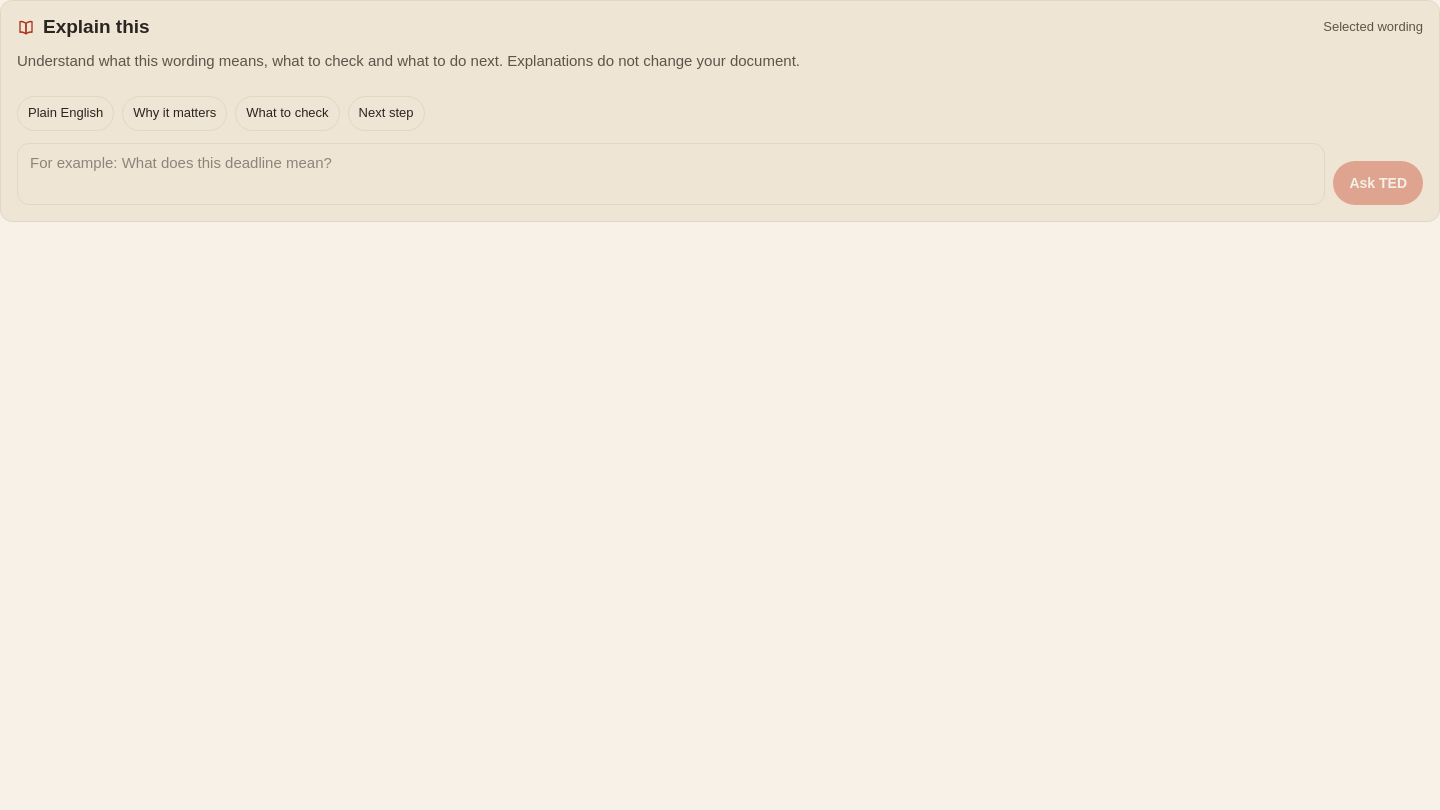
Scenario: Workspace assistance › renders an immediately returned explanation as labelled, accessible lists
Click the button "Plain English": (66, 114) [17,96,114,131]
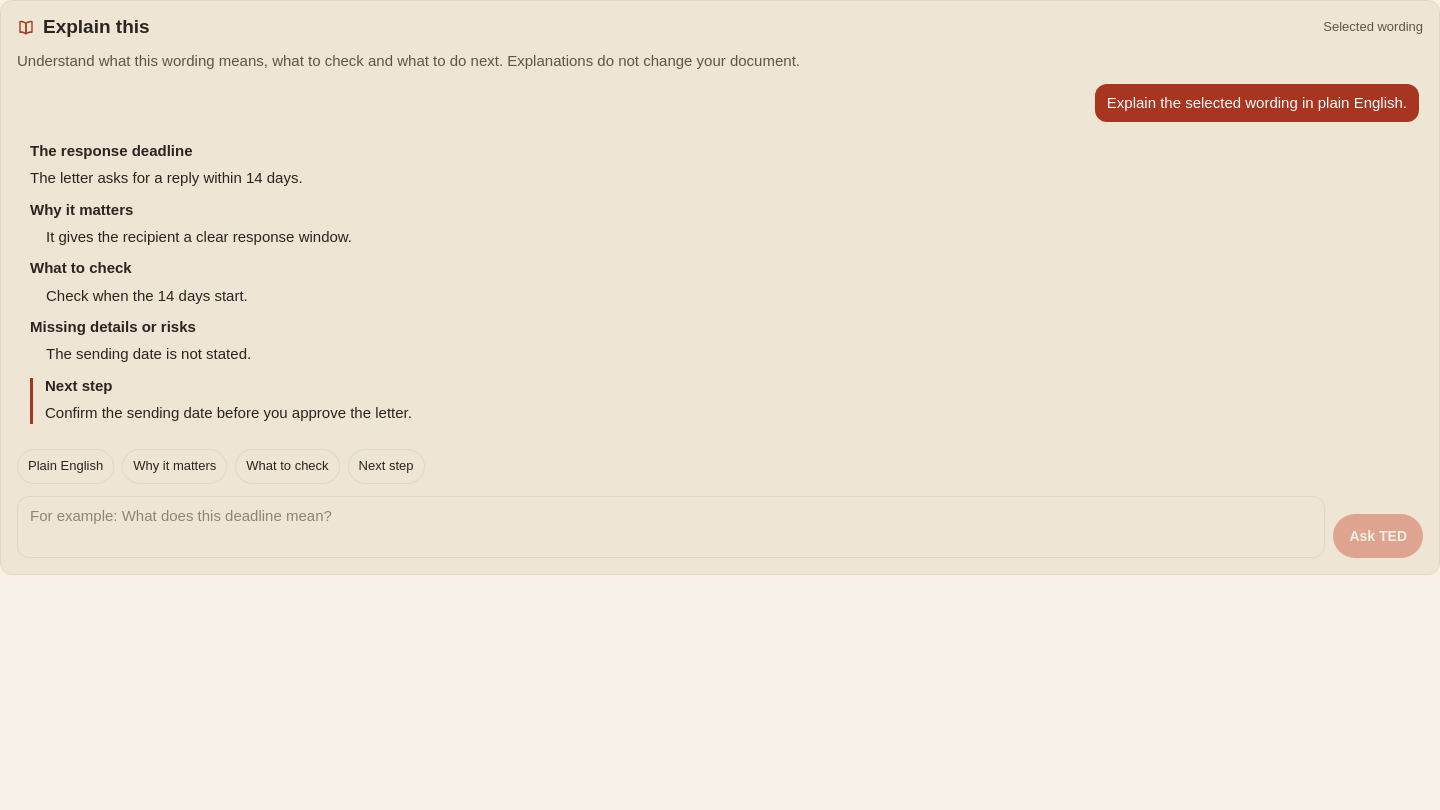
Check: the number of lists is 3, box [46,228,352,245]; [46,287,248,304]; [46,345,251,362]
Check: the heading "Next step" is shown, box [45,377,112,394]
Check: the element "The response deadline" shows "Confirm the sending date before you approve the letter.", box [45,404,412,421]
